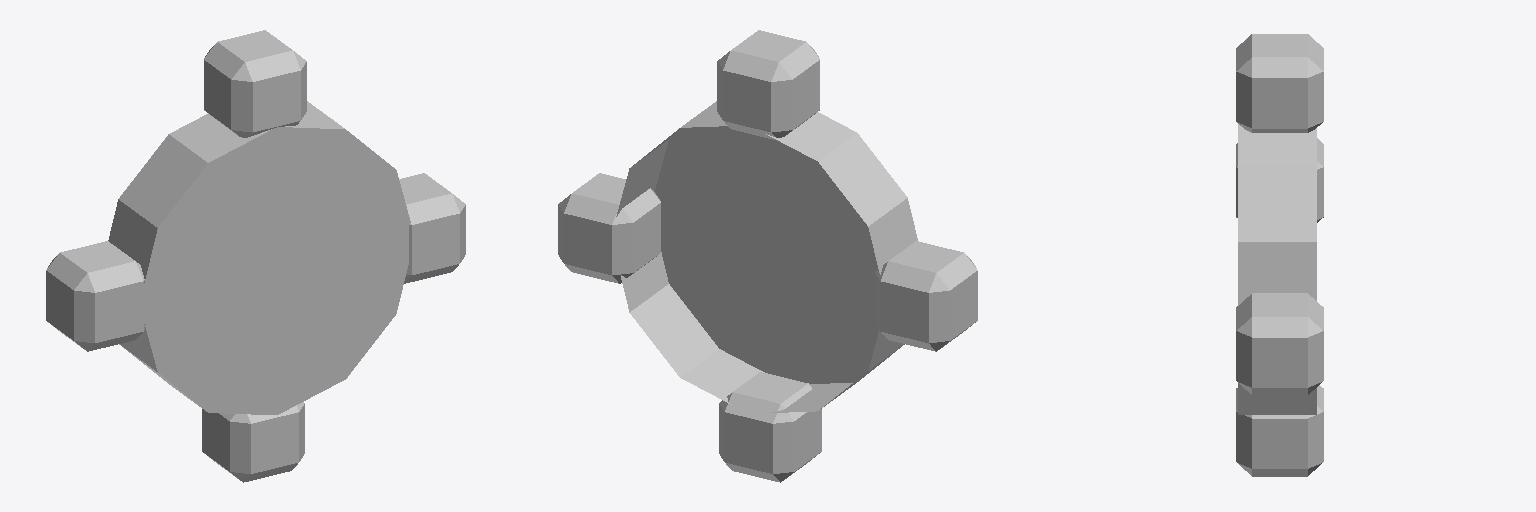
The model's file is drone3.obj.
3 views of the same model, side by side, from view 1: azimuth 30°, elevation 25°; view 2: azimuth 150°, elevation 25°; view 3: azimuth 270°, elevation 25° (orthographic).
Parts seen in each view (by area): view 1: Object.1; view 2: Object.1; view 3: Object.1.
Boxes of the visible parts, x1,y1,x2,y2 form: Object.1: [46, 30, 465, 482]; Object.1: [558, 30, 977, 482]; Object.1: [1236, 34, 1323, 476].
Size of the model in its own units: 86.92 by 89.03 by 16.73.